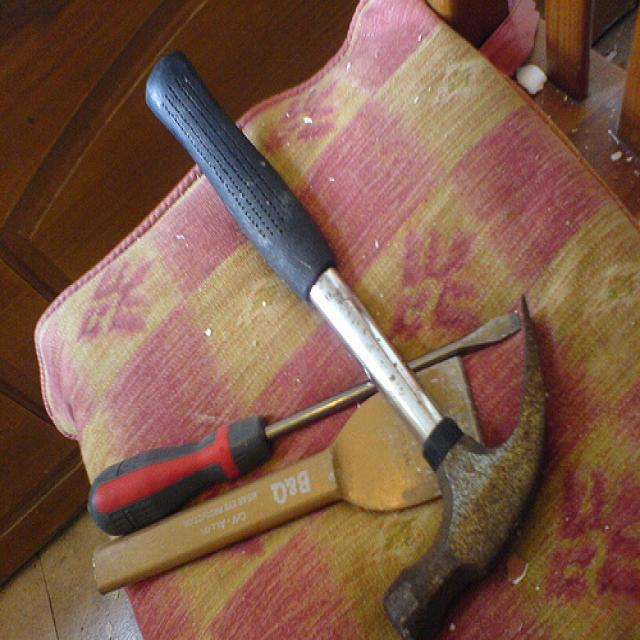hammer: (122, 23, 576, 634)
screwdriver: (75, 292, 532, 558)
